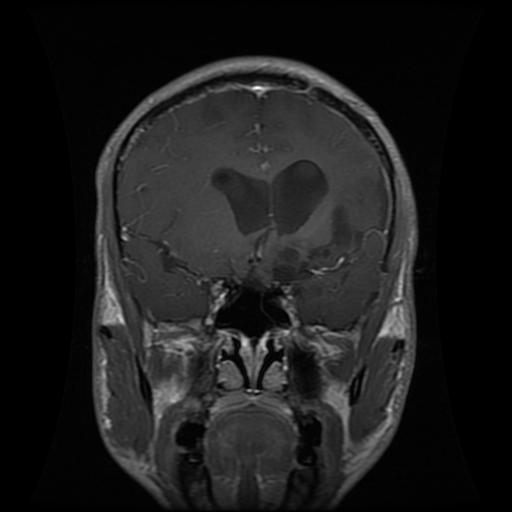Gliomia_tumour: (270, 203, 388, 286)
